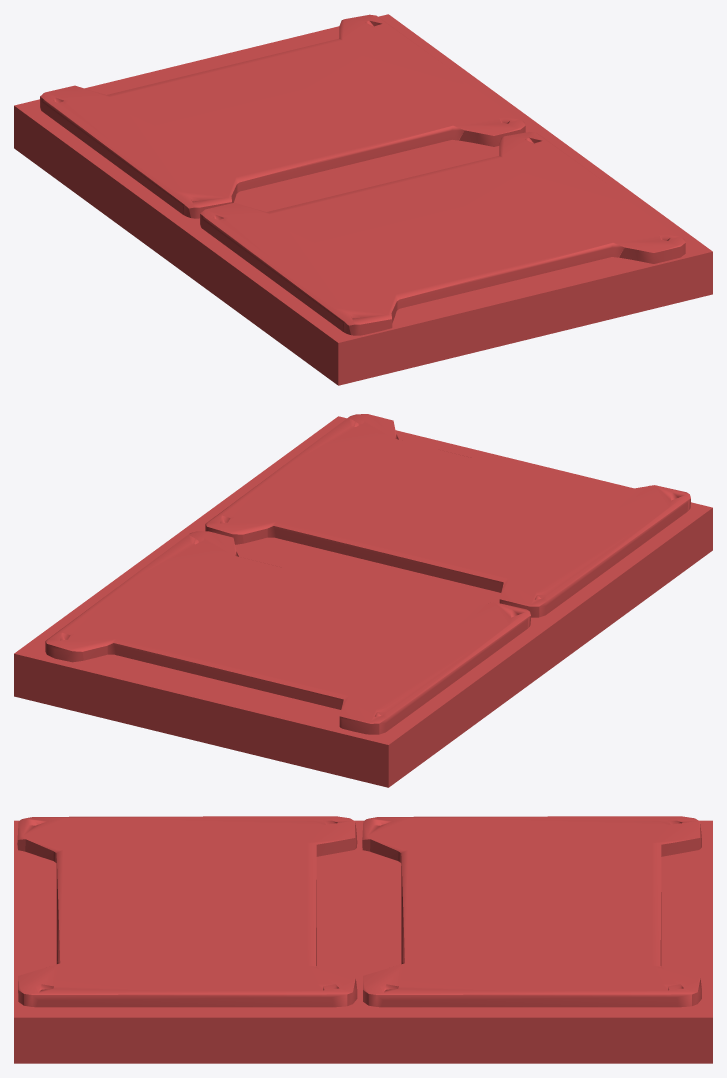
File: Final_ComplexWall_3x2_01.FBX
3 renders of one model, top to bottom at view 1: azimuth 30°, elevation 25°; view 2: azimuth 150°, elevation 25°; view 3: azimuth 270°, elevation 25°, orthographic. The views are drawn at different scales.
Visible parts, largest first — view 1: Final_ComplexWall_3x2_01; view 2: Final_ComplexWall_3x2_01; view 3: Final_ComplexWall_3x2_01.
Boxes of the visible parts, x1,y1,x2,y2 form: Final_ComplexWall_3x2_01: (14,14,712,385); Final_ComplexWall_3x2_01: (14,414,712,787); Final_ComplexWall_3x2_01: (14,816,712,1063).
Size of the model in its own units: 200 by 300 by 28.13.
